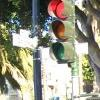traffic lights: (45, 0, 76, 65)
